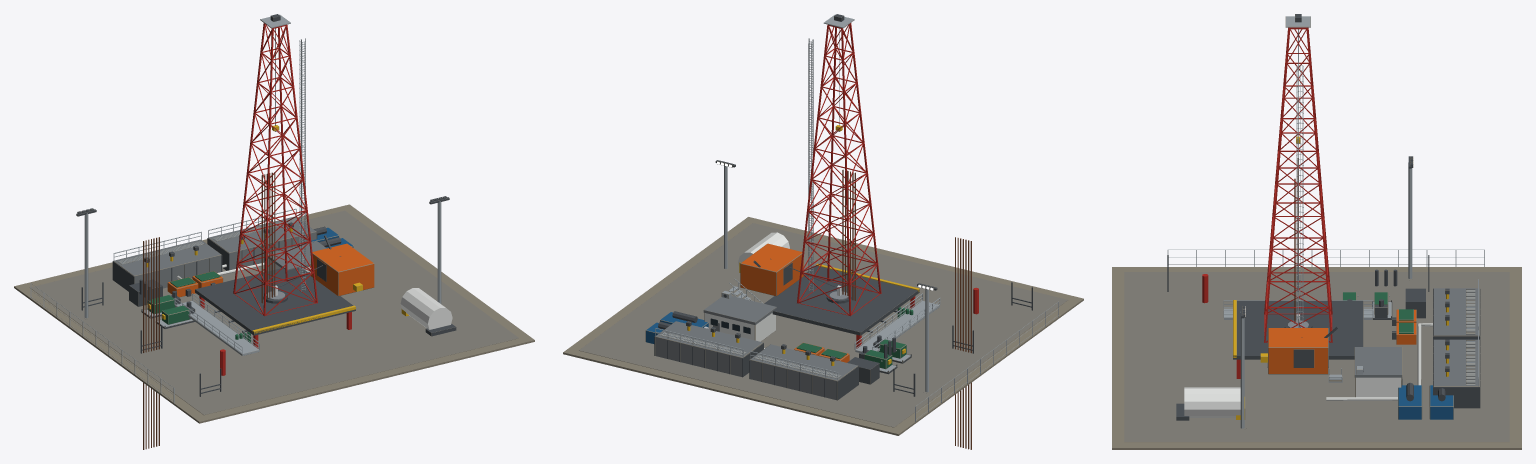
The model's file is on_land_rig.glb.
3 renders of one model, left to right at view 1: azimuth 30°, elevation 25°; view 2: azimuth 150°, elevation 25°; view 3: azimuth 270°, elevation 25°, orthographic. The views are drawn at different scales.
Visible parts, largest first — view 1: on_land_rig; view 2: on_land_rig; view 3: on_land_rig.
Boxes of the visible parts, bbox=[...] form: on_land_rig: bbox=[14, 14, 534, 449]; on_land_rig: bbox=[563, 14, 1083, 449]; on_land_rig: bbox=[1112, 14, 1521, 449].
Bounding box in the file's own units: 46.03 × 52.61 × 44.
